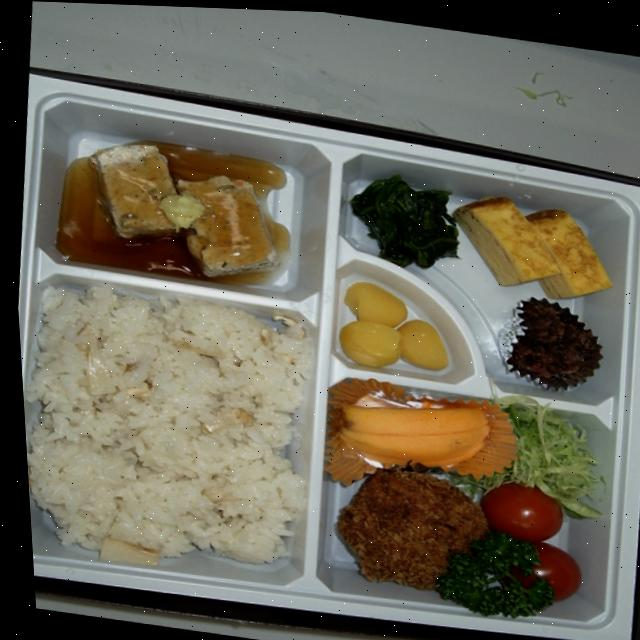米饭主食: (13, 274, 327, 587)
鸡蛋料理: (440, 179, 623, 311)
